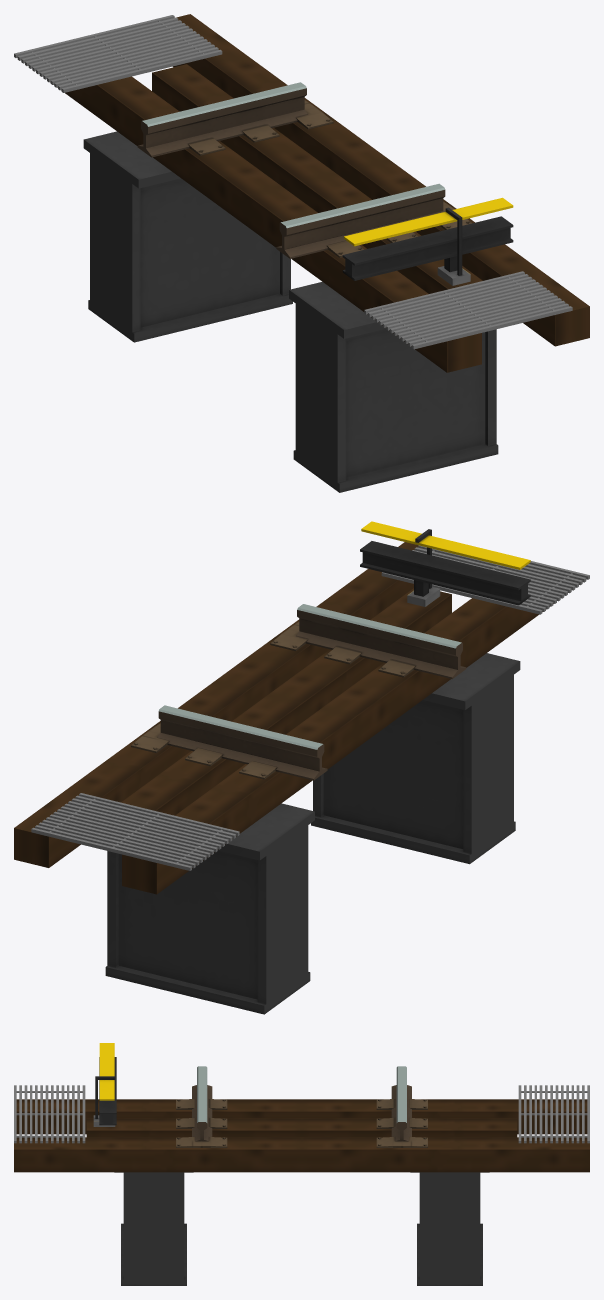
Rendered from spsf_nyc_bridge1.obj.
The picture shows the model from 3 angles, top to bottom: view 1: azimuth 30°, elevation 25°; view 2: azimuth 150°, elevation 25°; view 3: azimuth 270°, elevation 25°; orthographic projection. The views are drawn at different scales.
Parts seen in each view (by area): view 1: RAIL_BASE.004_Cube, RAIL_BASE.003_RAIL_BASE.006, RAIL_BASE_Cube.007, RAIL_BASE.002_Cube.004, RAIL_RIGHT_Cube.010, RAIL_LEFT_Cube.002, RAIL_BASE.005_Cube.003; view 2: RAIL_BASE.004_Cube, RAIL_BASE.003_RAIL_BASE.006, RAIL_BASE_Cube.007, RAIL_BASE.002_Cube.004, RAIL_RIGHT_Cube.010, RAIL_LEFT_Cube.002, RAIL_BASE.005_Cube.003; view 3: RAIL_BASE.003_RAIL_BASE.006, RAIL_BASE.004_Cube, RAIL_BASE_Cube.007, RAIL_BASE.005_Cube.003, RAIL_BASE.002_Cube.004, RAIL_LEFT_Cube.002, RAIL_RIGHT_Cube.010.
Part boxes in pixels (left/top/right/bottom): RAIL_BASE.004_Cube: left=83, top=131, right=498, bottom=492; RAIL_BASE.003_RAIL_BASE.006: left=50, top=14, right=589, bottom=372; RAIL_BASE_Cube.007: left=14, top=15, right=572, bottom=349; RAIL_BASE.002_Cube.004: left=342, top=197, right=513, bottom=285; RAIL_RIGHT_Cube.010: left=137, top=82, right=307, bottom=157; RAIL_LEFT_Cube.002: left=276, top=183, right=445, bottom=258; RAIL_BASE.005_Cube.003: left=188, top=100, right=471, bottom=257; RAIL_BASE.004_Cube: left=105, top=653, right=520, bottom=1014; RAIL_BASE.003_RAIL_BASE.006: left=14, top=542, right=553, bottom=894; RAIL_BASE_Cube.007: left=31, top=545, right=589, bottom=870; RAIL_BASE.002_Cube.004: left=360, top=521, right=530, bottom=606; RAIL_RIGHT_Cube.010: left=157, top=705, right=327, bottom=780; RAIL_LEFT_Cube.002: left=296, top=604, right=466, bottom=679; RAIL_BASE.005_Cube.003: left=131, top=622, right=415, bottom=779; RAIL_BASE.003_RAIL_BASE.006: left=14, top=1099, right=589, bottom=1172; RAIL_BASE.004_Cube: left=114, top=1172, right=489, bottom=1285; RAIL_BASE_Cube.007: left=14, top=1085, right=589, bottom=1143; RAIL_BASE.005_Cube.003: left=176, top=1099, right=427, bottom=1147; RAIL_BASE.002_Cube.004: left=93, top=1043, right=116, bottom=1126; RAIL_LEFT_Cube.002: left=192, top=1066, right=212, bottom=1141; RAIL_RIGHT_Cube.010: left=391, top=1066, right=411, bottom=1141.
Size of the model in its own units: 1.11 by 1.58 by 4.36.
Materials: 1 (1 with a texture image).
